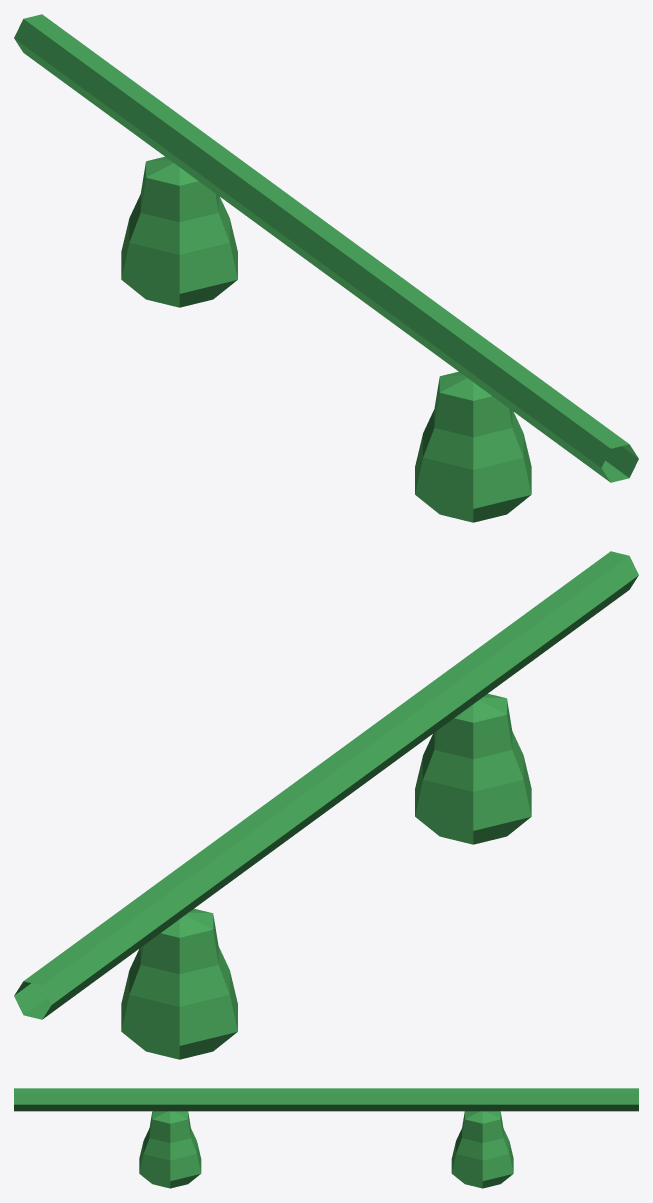
Rendered from Wreath.fbx.
3 views of the same model, one above another, from view 1: azimuth 30°, elevation 25°; view 2: azimuth 150°, elevation 25°; view 3: azimuth 270°, elevation 25° (orthographic). The views are drawn at different scales.
Parts seen in each view (by area): view 1: Wreath; view 2: Wreath; view 3: Wreath.
Part boxes in pixels (bbox=[...]): Wreath: bbox=[14, 14, 638, 522]; Wreath: bbox=[14, 551, 638, 1059]; Wreath: bbox=[14, 1088, 638, 1188].
Size of the model in its own units: 27.14 by 39.36 by 237.
